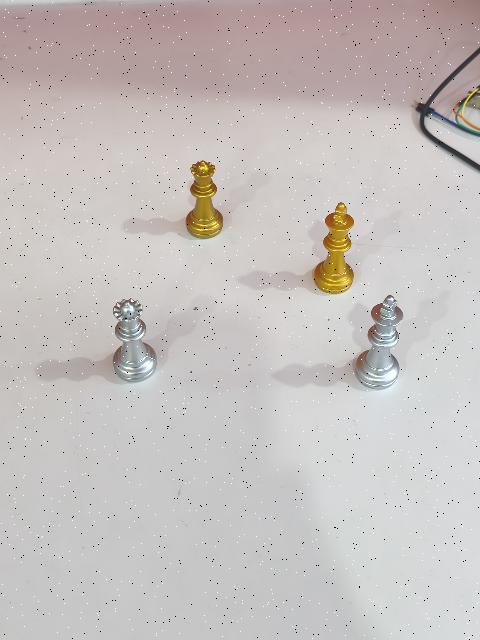black_king: (312, 202, 355, 295)
black_queen: (184, 161, 224, 241)
white_king: (355, 295, 402, 391)
white_queen: (111, 298, 157, 384)
